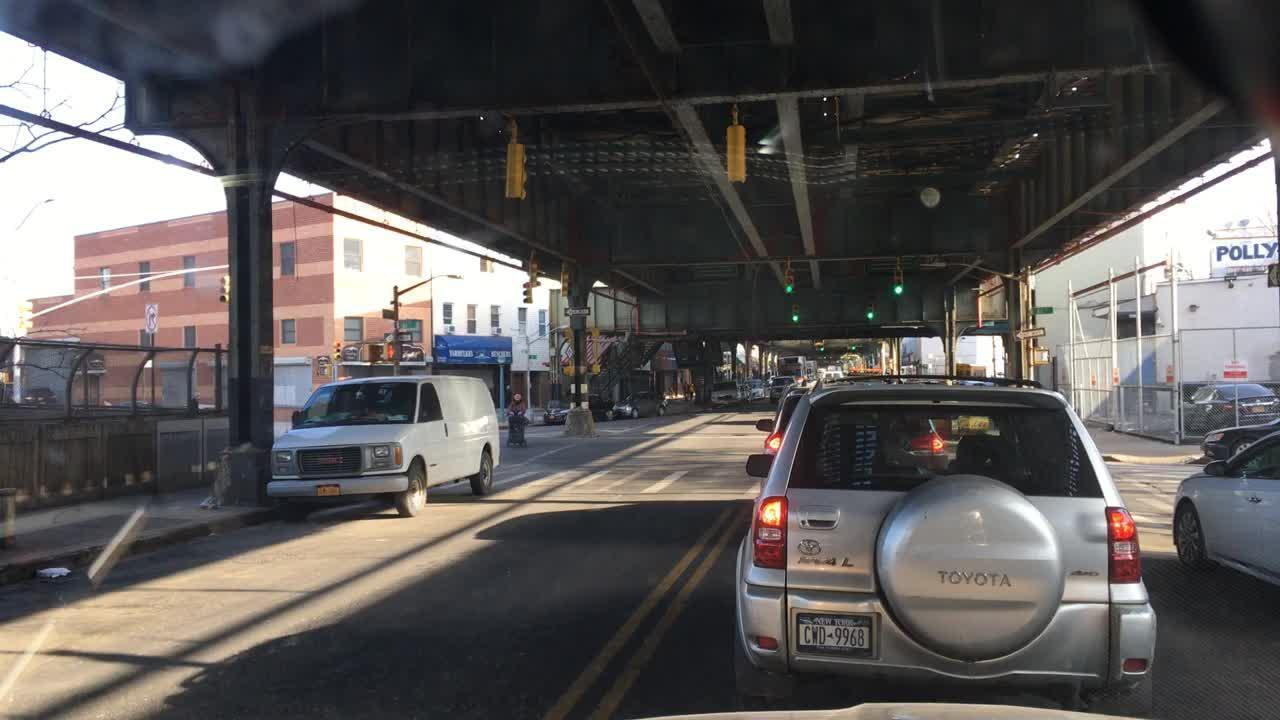GMC: (314, 453, 346, 469)
Toyota: (935, 567, 1013, 590), (795, 537, 823, 557)
